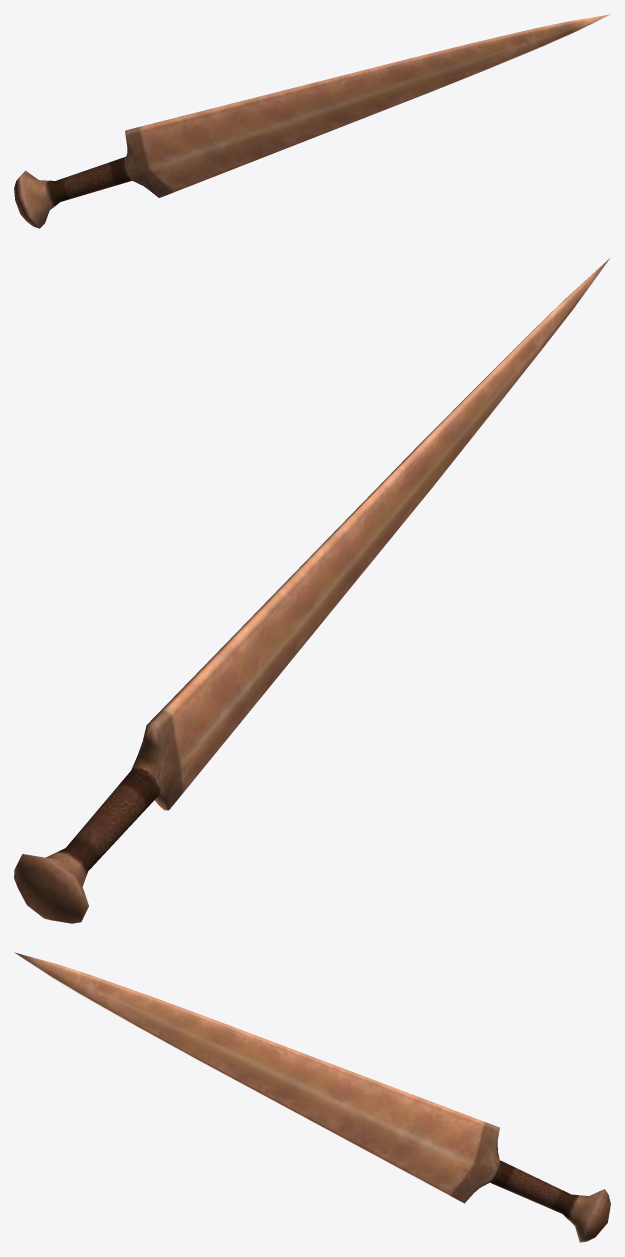
Rendered from weapon-bronzeweapons.glb.
3 renders of one model, top to bottom at view 1: azimuth 90°, elevation 25°; view 2: azimuth 150°, elevation 25°; view 3: azimuth 270°, elevation 25°, orthographic. The views are drawn at different scales.
Bounding box in the file's own units: 0.2035 × 0.458 × 0.9927.
Materials: 1 (1 with a texture image).
